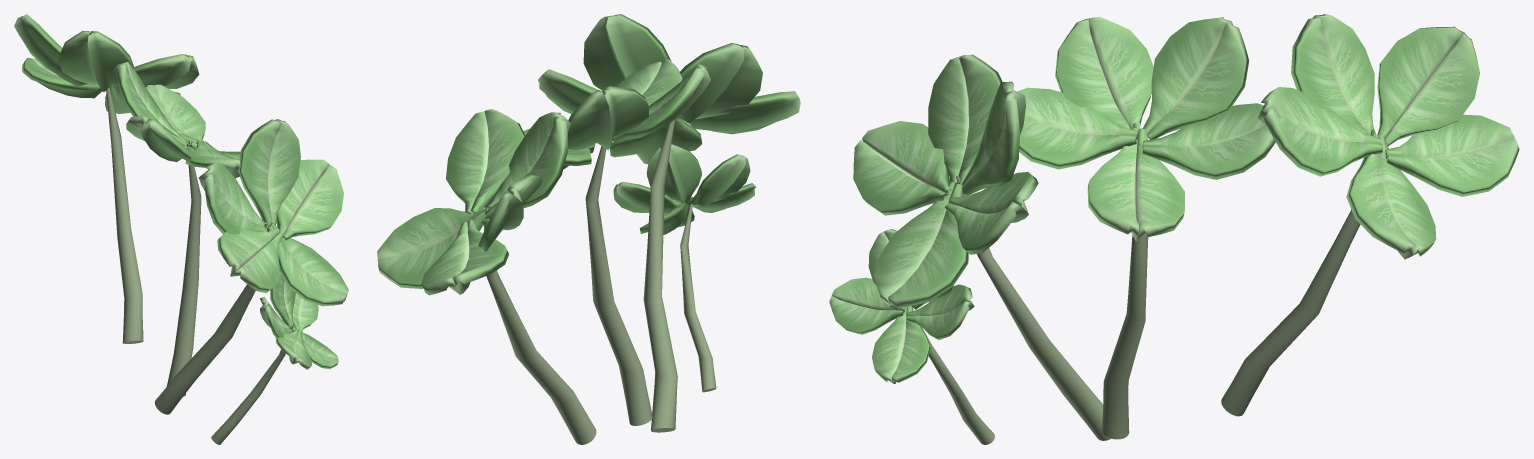
The model's file is Flowers.fbx.
The picture shows the model from 3 angles, left to right: view 1: azimuth 30°, elevation 25°; view 2: azimuth 150°, elevation 25°; view 3: azimuth 270°, elevation 25°; orthographic projection. The views are drawn at different scales.
Parts seen in each view (by area): view 1: polySurface114; view 2: polySurface114; view 3: polySurface114.
Boxes of the visible parts, box(x1,y1,x2,y2) form: polySurface114: box(14, 14, 348, 444); polySurface114: box(377, 14, 800, 444); polySurface114: box(829, 14, 1519, 444).
Size of the model in its own units: 0.6295 by 1.15 by 1.68.
